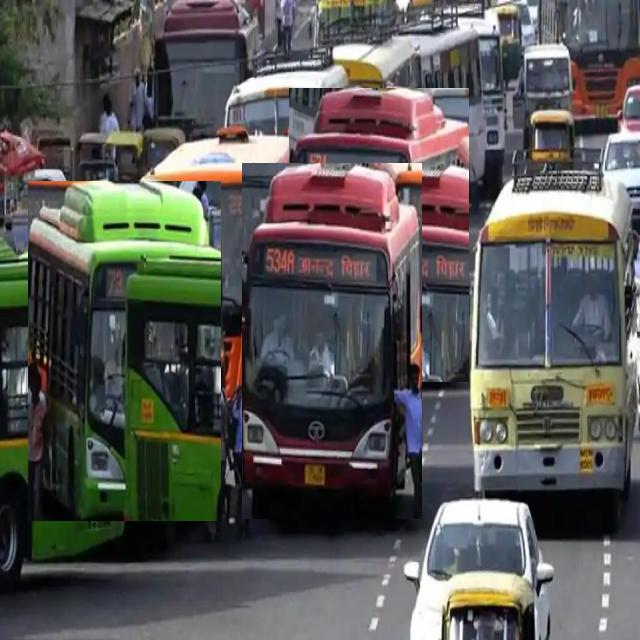bus: (28, 181, 221, 521), (242, 164, 421, 519), (470, 170, 635, 520), (289, 89, 469, 382)
